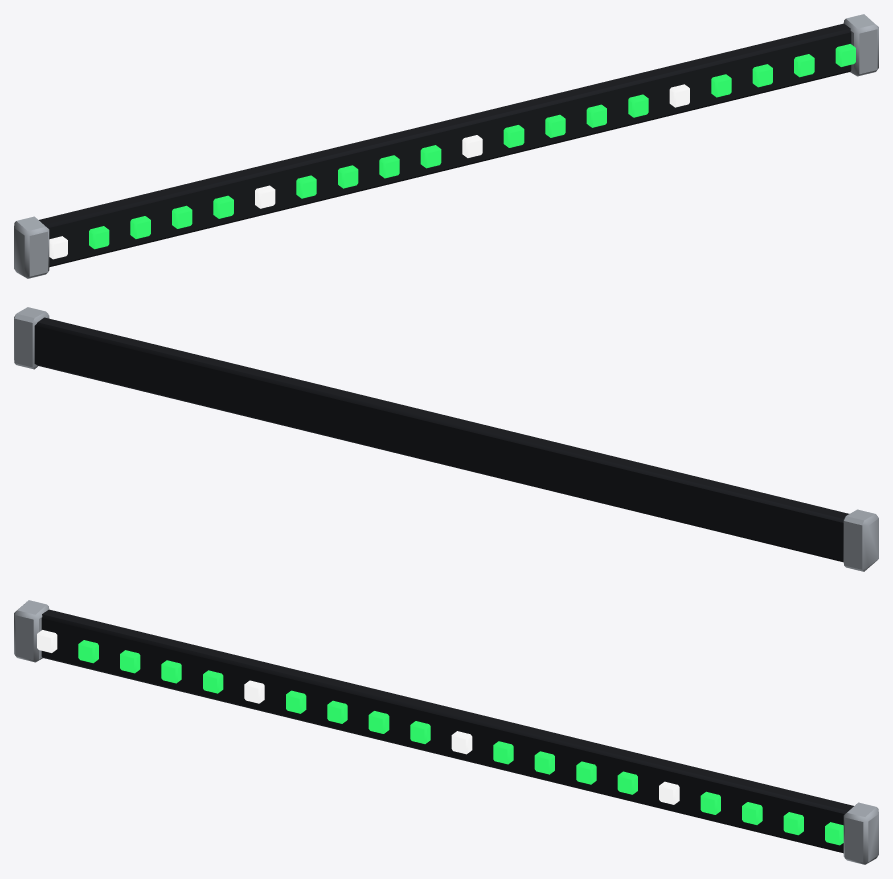
File: striplight_dot_matrix_strip.glb
3 renders of one model, top to bottom at view 1: azimuth 30°, elevation 25°; view 2: azimuth 150°, elevation 25°; view 3: azimuth 330°, elevation 25°, orthographic.
Parts seen in each view (by area): view 1: striplight_dot_matrix_strip; view 2: striplight_dot_matrix_strip; view 3: striplight_dot_matrix_strip.
Boxes of the visible parts, x1,y1,x2,y2 form: striplight_dot_matrix_strip: [14, 14, 878, 278]; striplight_dot_matrix_strip: [14, 307, 878, 571]; striplight_dot_matrix_strip: [14, 600, 878, 864].
Bounding box in the file's own units: 1.03 × 0.0592 × 0.0341.
